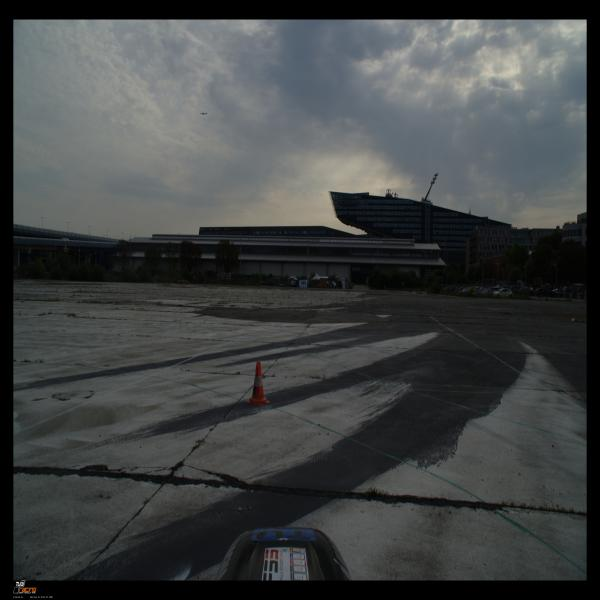orange_cone: (246, 361, 270, 405)
